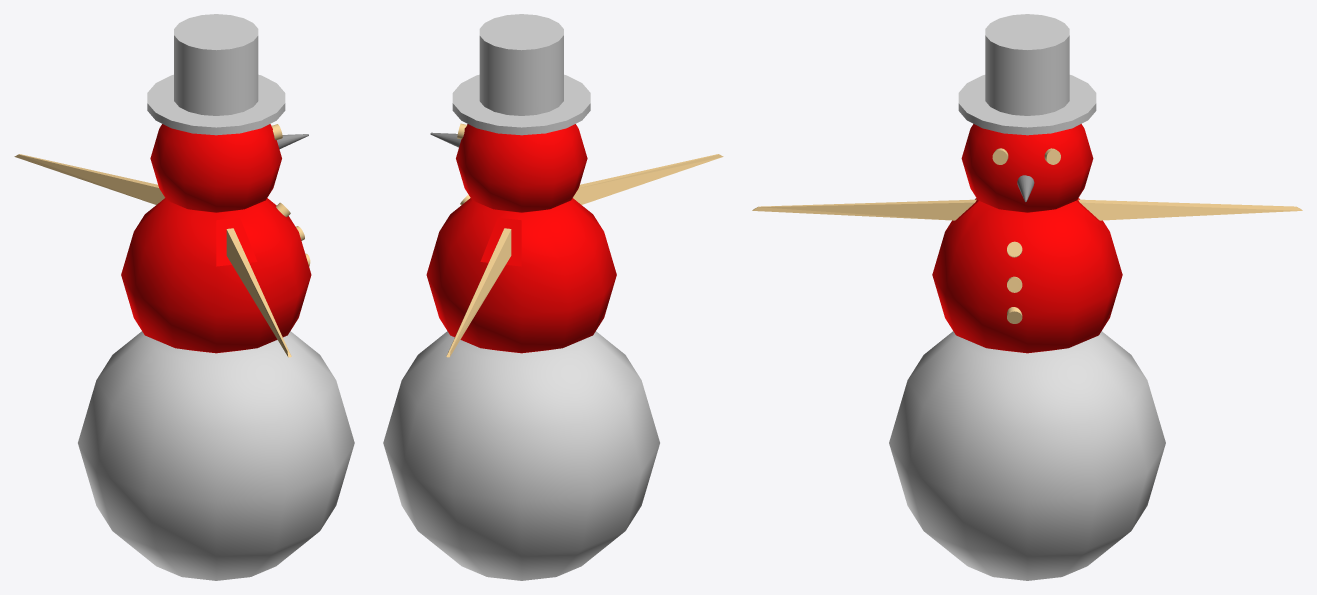
The model's file is snowman.FBX.
The picture shows the model from 3 angles, left to right: view 1: azimuth 30°, elevation 25°; view 2: azimuth 150°, elevation 25°; view 3: azimuth 270°, elevation 25°; orthographic projection.
Visible parts, largest first — view 1: Sphere001, Sphere002, Cylinder006, Sphere003; view 2: Sphere001, Sphere002, Cylinder006, Sphere003; view 3: Sphere001, Sphere002, Cylinder006, Sphere003.
Boxes of the visible parts, x1,y1,x2,y2 form: Sphere001: [78, 331, 354, 580]; Sphere002: [14, 154, 311, 357]; Cylinder006: [147, 14, 285, 135]; Sphere003: [150, 124, 308, 212]; Sphere001: [383, 331, 659, 580]; Sphere002: [426, 154, 723, 357]; Cylinder006: [452, 14, 590, 135]; Sphere003: [430, 123, 587, 212]; Sphere001: [889, 331, 1165, 580]; Sphere002: [752, 198, 1302, 353]; Cylinder006: [958, 14, 1096, 135]; Sphere003: [961, 124, 1093, 212].
Bounding box in the file's own units: 710 × 1413 × 1518.
